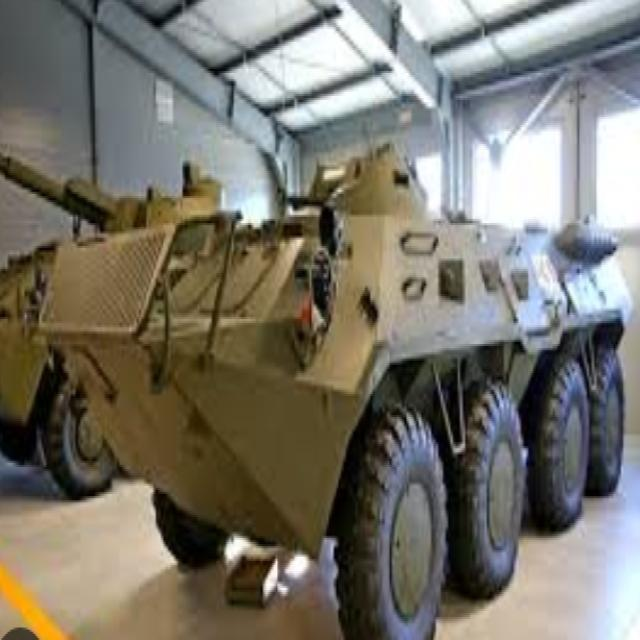MIL_APC: (64, 141, 633, 639)
